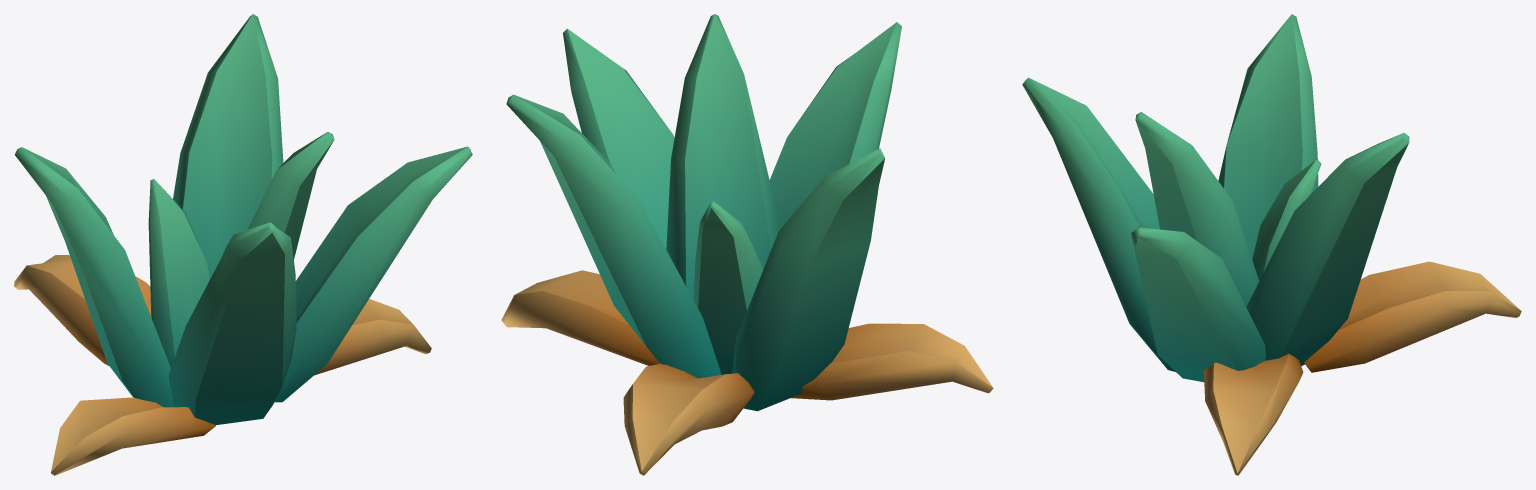
3 views of the same model, side by side, from view 1: azimuth 30°, elevation 25°; view 2: azimuth 150°, elevation 25°; view 3: azimuth 270°, elevation 25° (orthographic). The views are drawn at different scales.
Visible parts, largest first — view 1: LOD 1_14127737254430187619_3e1162219392c0d418059c435572ff39; view 2: LOD 1_14127737254430187619_3e1162219392c0d418059c435572ff39; view 3: LOD 1_14127737254430187619_3e1162219392c0d418059c435572ff39.
Boxes of the visible parts, bbox=[...] form: LOD 1_14127737254430187619_3e1162219392c0d418059c435572ff39: bbox=[14, 14, 472, 475]; LOD 1_14127737254430187619_3e1162219392c0d418059c435572ff39: bbox=[501, 14, 993, 475]; LOD 1_14127737254430187619_3e1162219392c0d418059c435572ff39: bbox=[1022, 14, 1521, 475].
Bounding box in the file's own units: 0.9316 × 0.6423 × 0.9602.
